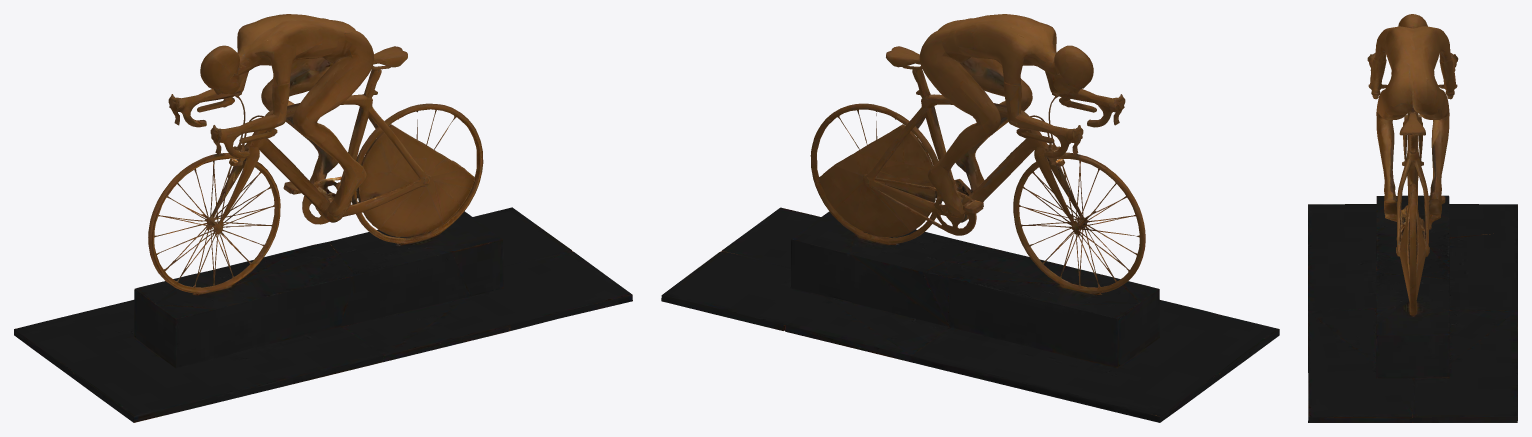
File: the-tuck.glb
3 views of the same model, side by side, from view 1: azimuth 30°, elevation 25°; view 2: azimuth 150°, elevation 25°; view 3: azimuth 270°, elevation 25° (orthographic). The views are drawn at different scales.
Size of the model in its own units: 1.9 by 1.12 by 0.7899.
Materials: 1 (1 with a texture image).
